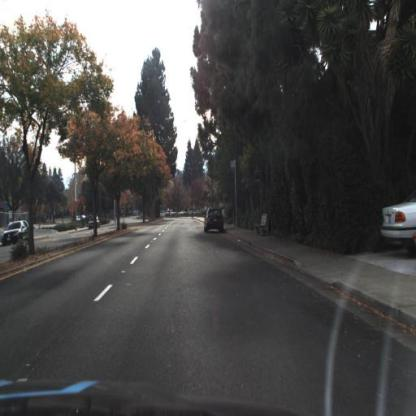car: (381, 195, 416, 258), (203, 205, 229, 236), (3, 222, 31, 246), (86, 214, 102, 232), (88, 216, 100, 230)
